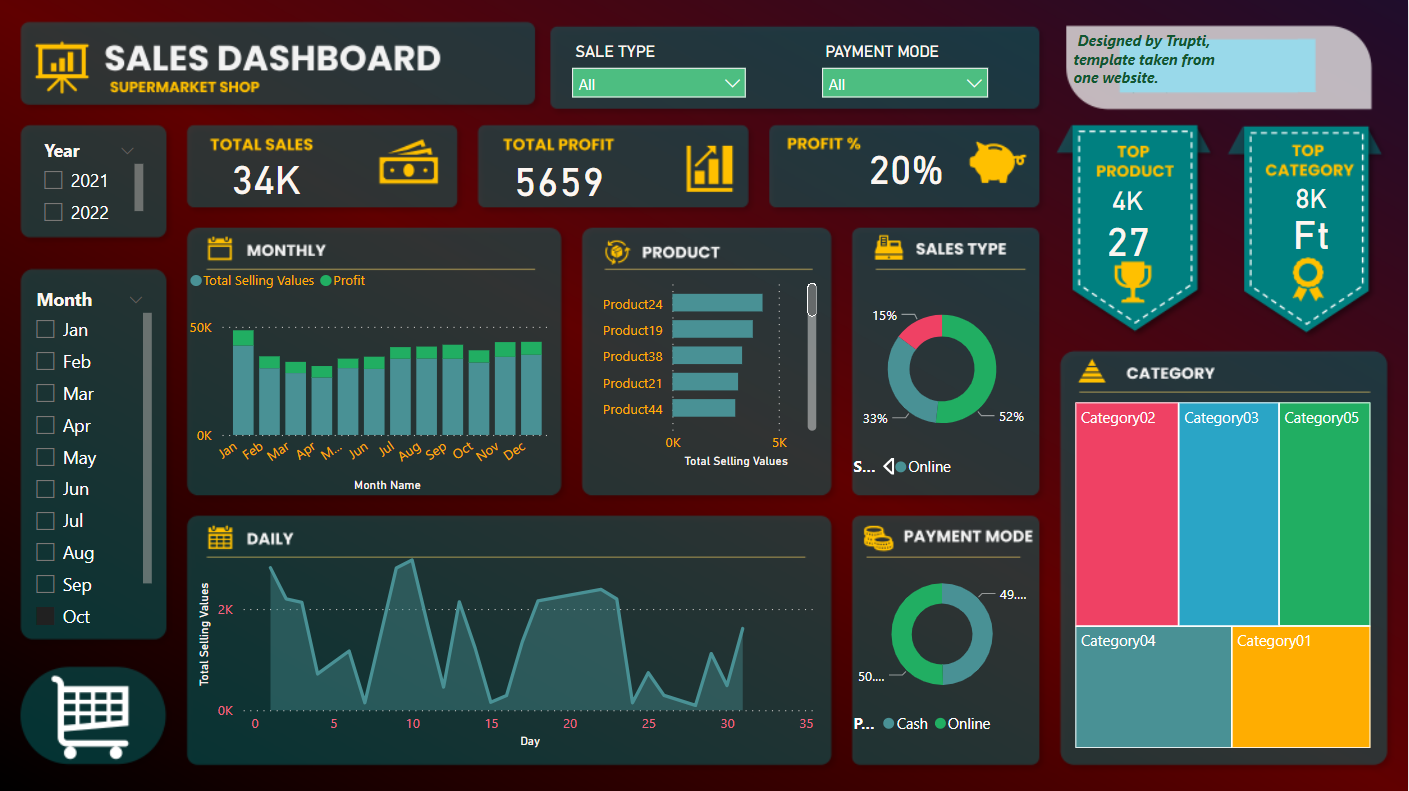

This screenshot's page, from the dashboard's own definition file:
{"tool":"powerbi","page":{"name":"Page 1","canvas":[1280,720],"ordinal":0},"visuals":[{"type":"slicer","fields":{"Values":["InputData.Year"]},"box":[27.5,120.8,107.5,87.5],"z":0},{"type":"slicer","fields":{"Values":["InputData.PAYMENT MODE"]},"box":[737.5,33.3,170.8,58.3],"z":1000},{"type":"slicer","fields":{"Values":["InputData.SALE TYPE"]},"box":[510,33.3,178.3,99.2],"z":2000},{"type":"slicer","title":"Month","fields":{"Values":["InputData.Month Name"]},"box":[20,256.7,122.5,325.8],"z":3000},{"type":"card","fields":{"Values":["Sum(InputData.Total Selling Values)"]},"box":[159.2,114.2,165.8,90.8],"z":4000},{"type":"card","fields":{"Values":["InputData.Profit %"]},"box":[764.2,114.2,117.5,73.3],"z":5000},{"type":"card","fields":{"Values":["InputData.Profit"]},"box":[429.2,120,156.7,85],"z":6000},{"type":"card","fields":{"Values":["Sum(InputData.QUANTITY)"]},"box":[980.8,189.2,89.2,55],"z":7000},{"type":"card","fields":{"Values":["Min(InputData.MasterData.UOM)"]},"box":[1152.5,182.5,79.2,55.8],"z":8000},{"type":"card","fields":{"Values":["Sum(InputData.Total Selling Values)"]},"box":[1147.5,150.8,89.2,56.7],"z":9000},{"type":"card","fields":{"Values":["Sum(InputData.Total Selling Values)"]},"box":[970.8,150,108.3,64.2],"z":10000},{"type":"columnChart","fields":{"Category":["InputData.Month Name"],"Y":["Sum(InputData.Total Selling Values)","InputData.Profit"]},"box":[167.5,235,340,215.8],"z":11000},{"type":"clusteredBarChart","fields":{"Y":["Sum(InputData.Total Selling Values)"],"Category":["InputData.MasterData.PRODUCT"]},"box":[537.5,244.2,210,185],"z":12000},{"type":"areaChart","fields":{"Y":["Sum(InputData.Total Selling Values)"],"Category":["InputData.Day"]},"box":[175.8,493.3,571.7,190.8],"z":13000},{"type":"donutChart","fields":{"Category":["InputData.SALE TYPE"],"Y":["Sum(InputData.Total Selling Values)"]},"box":[770.8,256.7,170.8,187.5],"z":14000},{"type":"donutChart","fields":{"Y":["Sum(InputData.Total Selling Values)"],"Series":["InputData.PAYMENT MODE"]},"box":[770.8,505.8,170.8,170.8],"z":15000},{"type":"treemap","fields":{"Group":["InputData.MasterData.CATEGORY"],"Values":["Sum(InputData.Total Selling Values)"]},"box":[972.5,360.8,277.5,324.2],"z":16000},{"type":"textbox","box":[970.8,22.5,158.3,60.8],"z":16001}]}

Visuals, with their boxes in screenshot pixels (x1, y1, x2, y2), scaled from the page's 1280x720 canvas onto the 1409x791 screenshot:
slicer - InputData.Year: region(30, 133, 149, 229)
slicer - InputData.PAYMENT MODE: region(812, 37, 1000, 101)
slicer - InputData.SALE TYPE: region(561, 37, 758, 146)
"Month" slicer: region(22, 282, 157, 640)
card - Sum(InputData.Total Selling Values): region(175, 125, 358, 225)
card - InputData.Profit %: region(841, 125, 971, 206)
card - InputData.Profit: region(472, 132, 645, 225)
card - Sum(InputData.QUANTITY): region(1080, 208, 1178, 268)
card - Min(InputData.MasterData.UOM): region(1269, 200, 1356, 262)
card - Sum(InputData.Total Selling Values): region(1263, 166, 1361, 228)
card - Sum(InputData.Total Selling Values): region(1069, 165, 1188, 235)
columnChart - InputData.Month Name x Sum(InputData.Total Selling Values): region(184, 258, 559, 495)
clusteredBarChart - Sum(InputData.Total Selling Values) x InputData.MasterData.PRODUCT: region(592, 268, 823, 472)
areaChart - Sum(InputData.Total Selling Values) x InputData.Day: region(194, 542, 823, 752)
donutChart - InputData.SALE TYPE x Sum(InputData.Total Selling Values): region(848, 282, 1036, 488)
donutChart - Sum(InputData.Total Selling Values) x InputData.PAYMENT MODE: region(848, 556, 1036, 743)
treemap - InputData.MasterData.CATEGORY x Sum(InputData.Total Selling Values): region(1071, 396, 1376, 753)
textbox: region(1069, 25, 1243, 92)
